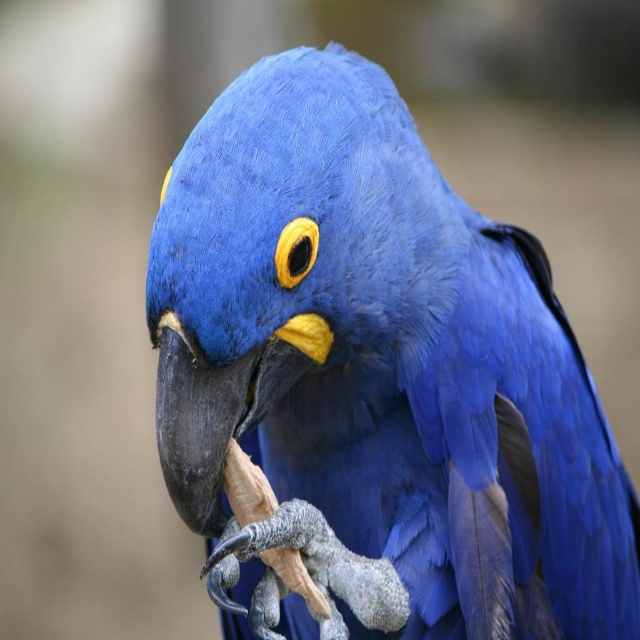Parrot: (134, 34, 640, 638)
